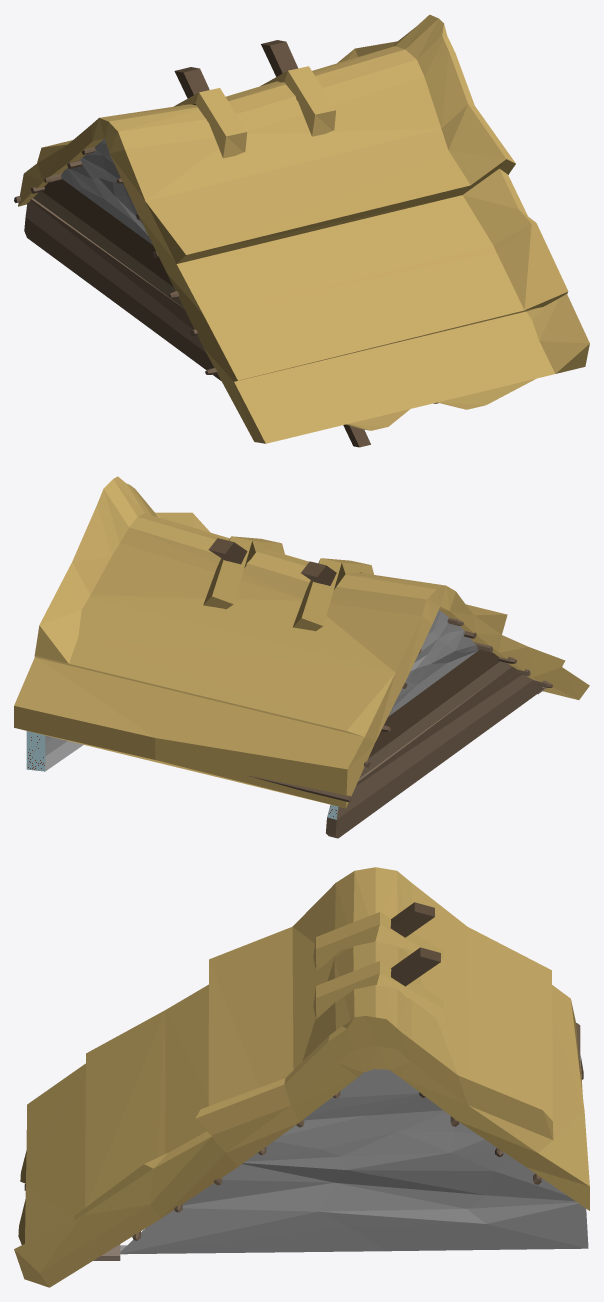
The model's file is EA03_Village_Hut_Roof_Cut_01d.fbx.
The picture shows the model from 3 angles, top to bottom: view 1: azimuth 30°, elevation 25°; view 2: azimuth 150°, elevation 25°; view 3: azimuth 270°, elevation 25°; orthographic projection. The views are drawn at different scales.
Parts seen in each view (by area): view 1: EA03_Village_Hut_Roof_Cut_01d_LOD0; view 2: EA03_Village_Hut_Roof_Cut_01d_LOD0; view 3: EA03_Village_Hut_Roof_Cut_01d_LOD0.
Boxes of the visible parts, x1,y1,x2,y2 form: EA03_Village_Hut_Roof_Cut_01d_LOD0: [14, 14, 589, 447]; EA03_Village_Hut_Roof_Cut_01d_LOD0: [14, 476, 589, 838]; EA03_Village_Hut_Roof_Cut_01d_LOD0: [14, 867, 589, 1287].
Size of what is drawn, in the model's own units: 6.95 by 5.22 by 9.11.
